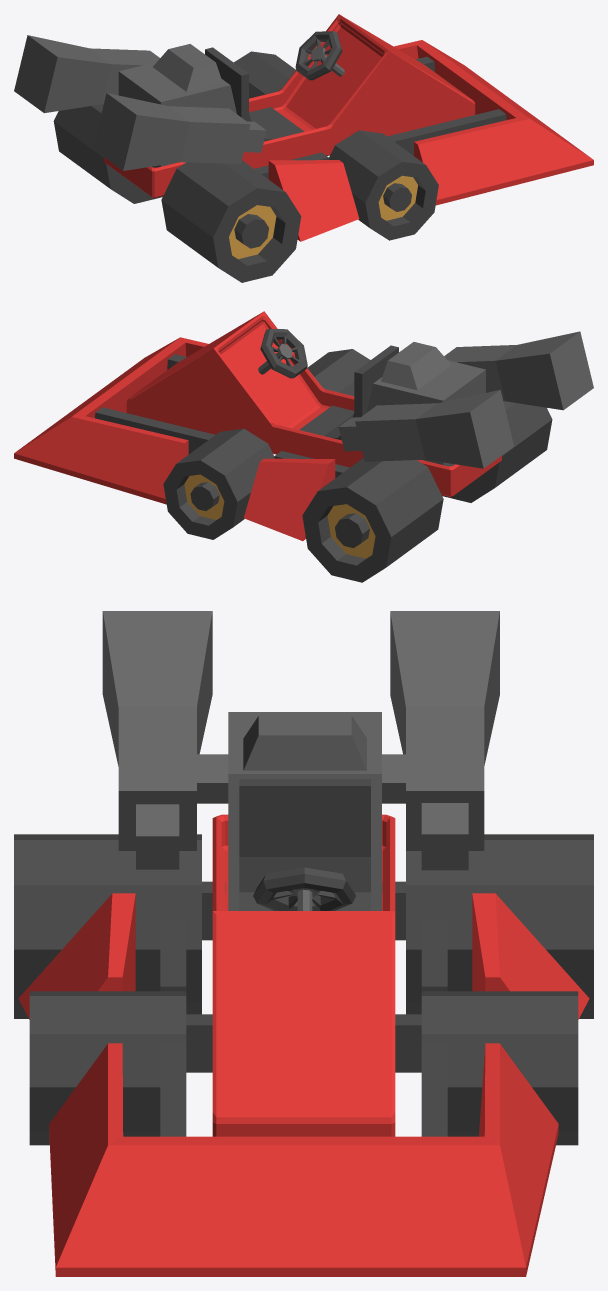
File: Kart.fbx
3 views of the same model, one above another, from view 1: azimuth 30°, elevation 25°; view 2: azimuth 150°, elevation 25°; view 3: azimuth 270°, elevation 25° (orthographic). The views are drawn at different scales.
Parts seen in each view (by area): view 1: Kart; view 2: Kart; view 3: Kart.
Part boxes in pixels (box(x1,y1,x2,y2)): Kart: box(14, 14, 593, 282); Kart: box(14, 311, 593, 582); Kart: box(14, 611, 593, 1276).
Size of the model in its own units: 184 by 65.24 by 111.
